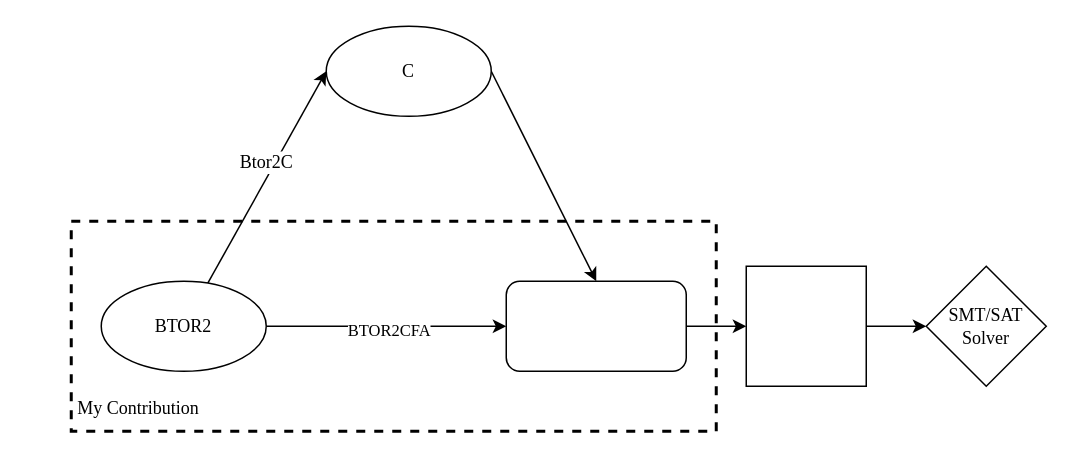
The diagram is 1073 pixels wide and 459 high, and some of its shapes have lost their labels. Each missing label, with the box of its shape:
CFA: (505, 280, 686, 371)
Model Checker: (745, 265, 866, 386)
